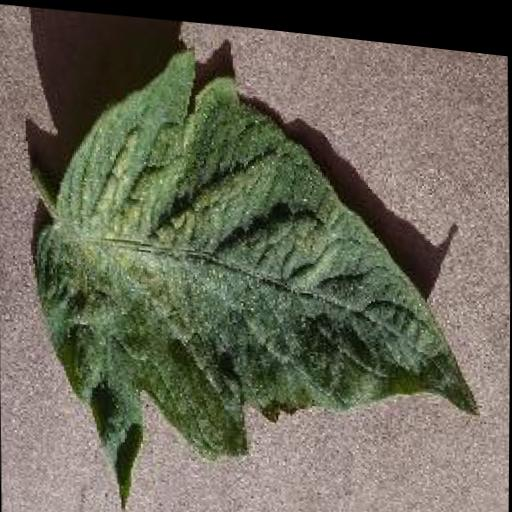Spider Mites: (25, 26, 485, 512)
